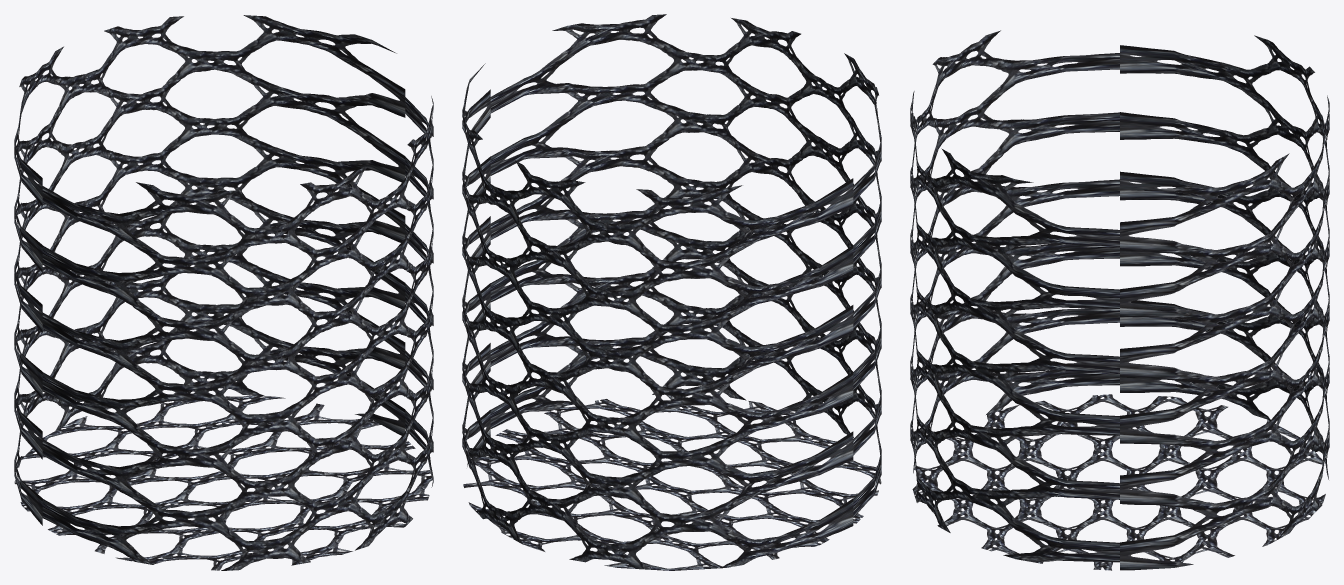
File: net.obj
The picture shows the model from 3 angles, left to right: view 1: azimuth 30°, elevation 25°; view 2: azimuth 150°, elevation 25°; view 3: azimuth 270°, elevation 25°; orthographic projection.
Visible parts, largest first — view 1: net; view 2: net; view 3: net.
Part boxes in pixels (bbox=[...]): net: bbox=[14, 15, 433, 570]; net: bbox=[462, 14, 881, 570]; net: bbox=[910, 30, 1329, 570].
Size of the model in its own units: 0.3492 by 0.3492 by 0.3492.
1 material, 1 textured.
